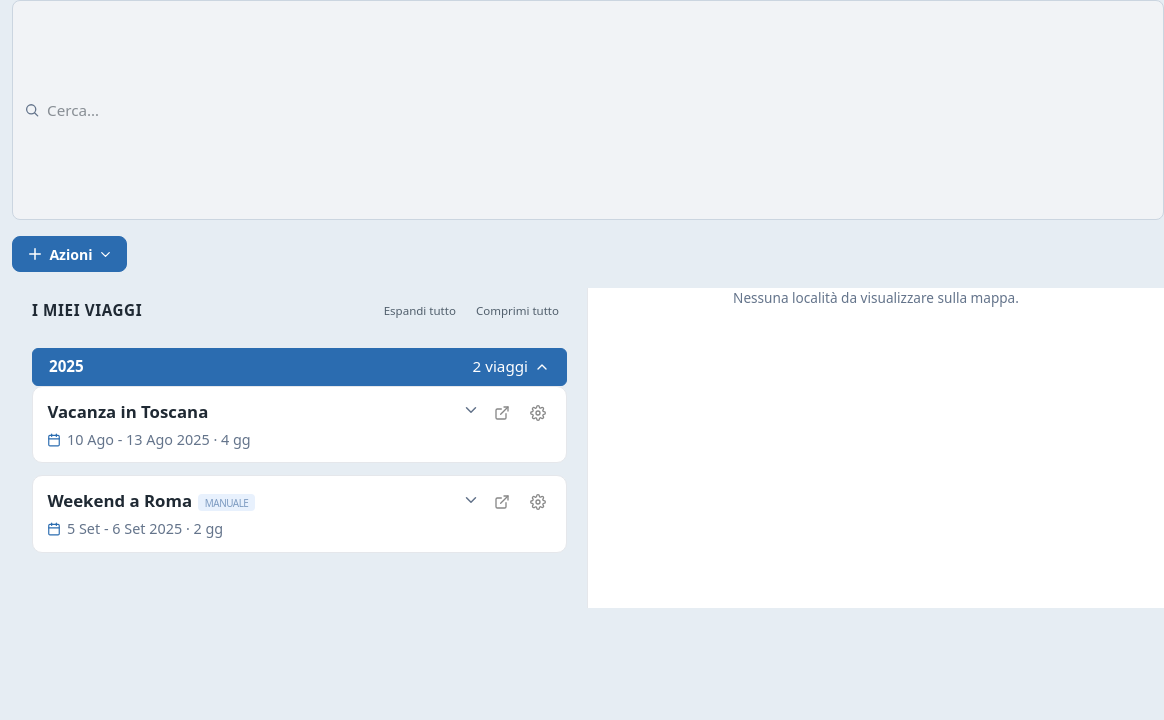
TripsPage › opens the trip detail with day/locality chronology and 'Nessuna foto' gaps (§16)
Expected: the text "Vacanza in Toscana" is shown, [47,400,208,423]
What coordinates should you click on to do the following:
click the button "Vacanza in Toscana 10 Ago - 13 Ago 2025 · 4 gg"
I would click on:
 (128, 411)
Its box is [47,399,480,450].
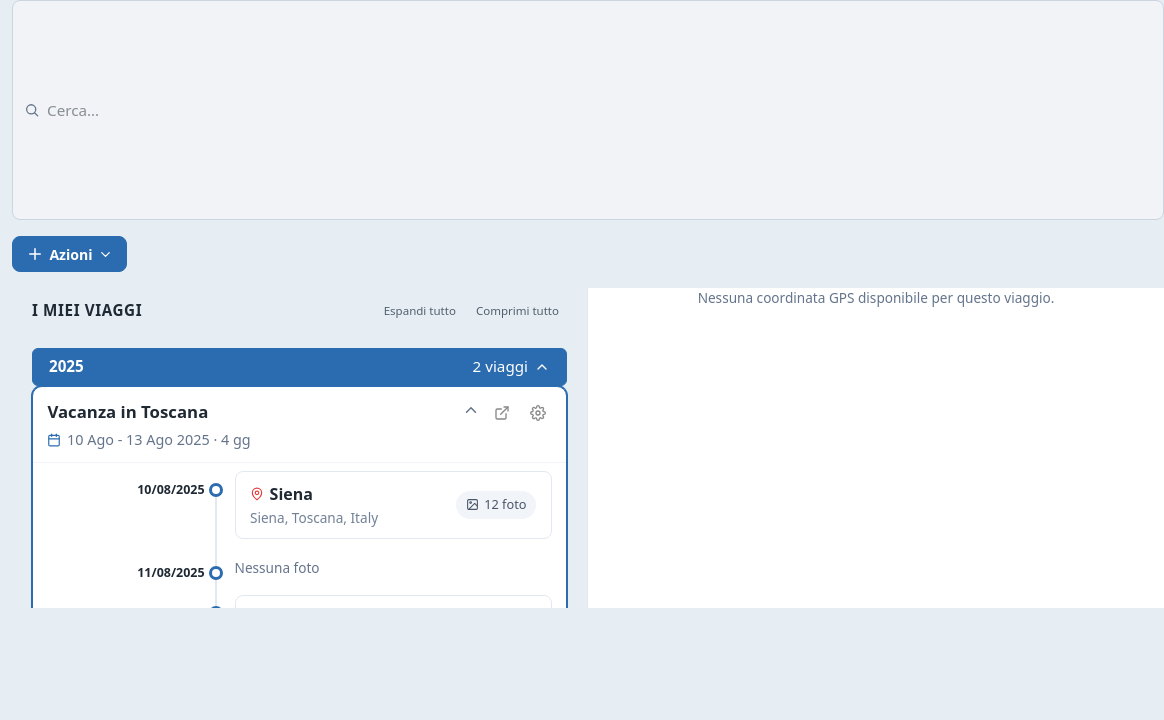
Now the text "Nessuna foto" is shown, box [235,558,320,576]
Now the text "Siena" is shown, box [250,483,313,505]
Now the text "12 foto" is shown, box [456,491,536,518]
